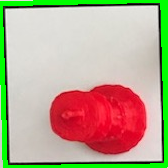Red King: (43, 80, 152, 155)
